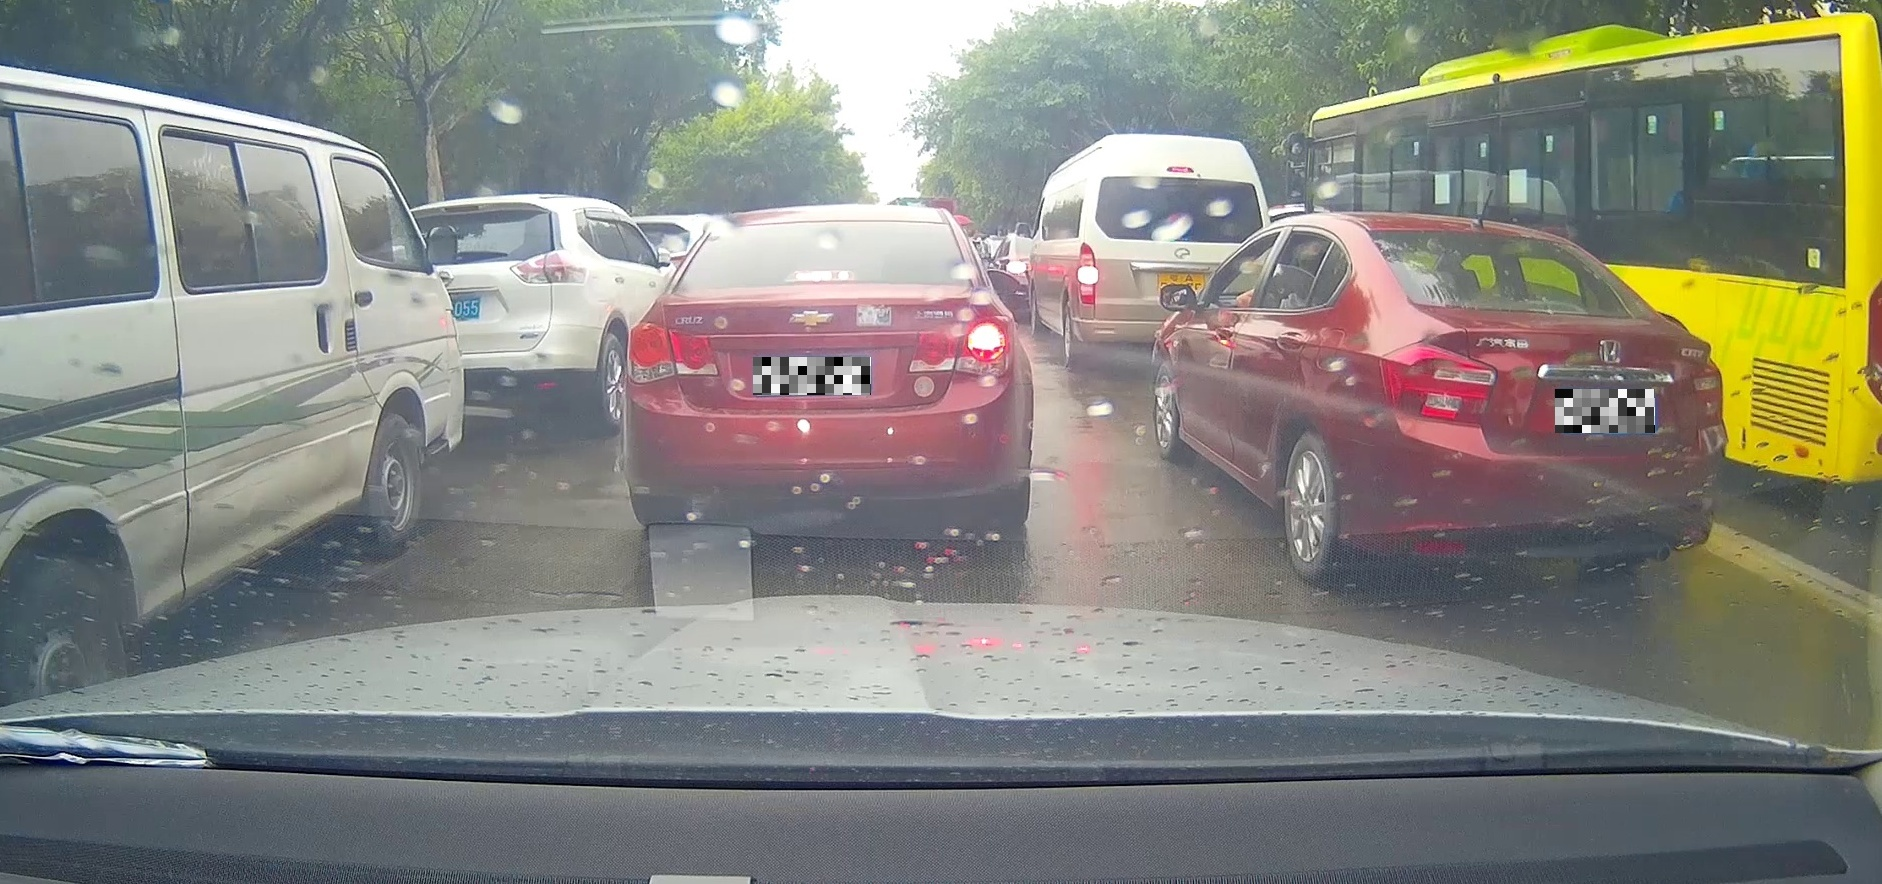L_light: (1379, 343, 1496, 423), (624, 323, 719, 384)
R_light: (909, 315, 1012, 378), (1691, 357, 1724, 422)
T_light: (1518, 300, 1588, 315), (787, 269, 855, 284)
day-no: (1344, 217, 1727, 583)
day-right: (621, 208, 1032, 529)
plate_1: (753, 357, 871, 395)
plate_2: (1556, 389, 1655, 433)
